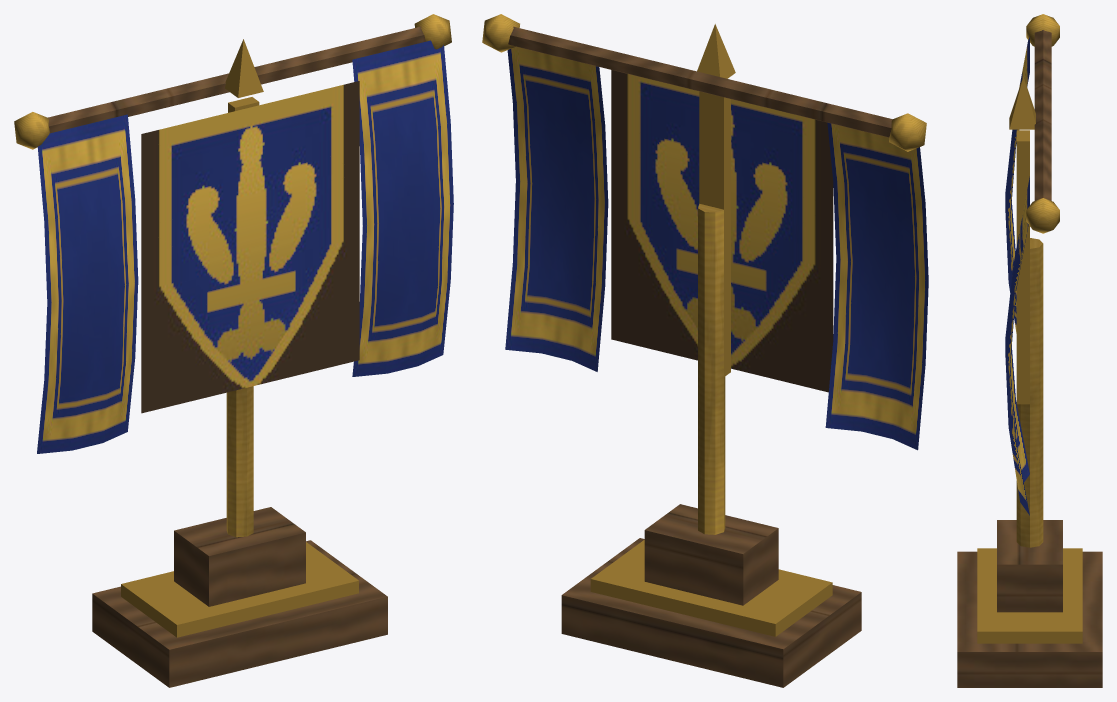
The model's file is prop_schild_blue.glb.
3 renders of one model, left to right at view 1: azimuth 30°, elevation 25°; view 2: azimuth 150°, elevation 25°; view 3: azimuth 270°, elevation 25°, orthographic. The views are drawn at different scales.
Visible parts, largest first — view 1: prop_schild_blue; view 2: prop_schild_blue; view 3: prop_schild_blue.
Part boxes in pixels (left/top/right/bottom): prop_schild_blue: left=14, top=14, right=453, bottom=687; prop_schild_blue: left=482, top=14, right=928, bottom=687; prop_schild_blue: left=957, top=14, right=1102, bottom=687.
Bounding box in the file's own units: 0.7137 × 0.94 × 0.22.
Materials: 1 (1 with a texture image).
